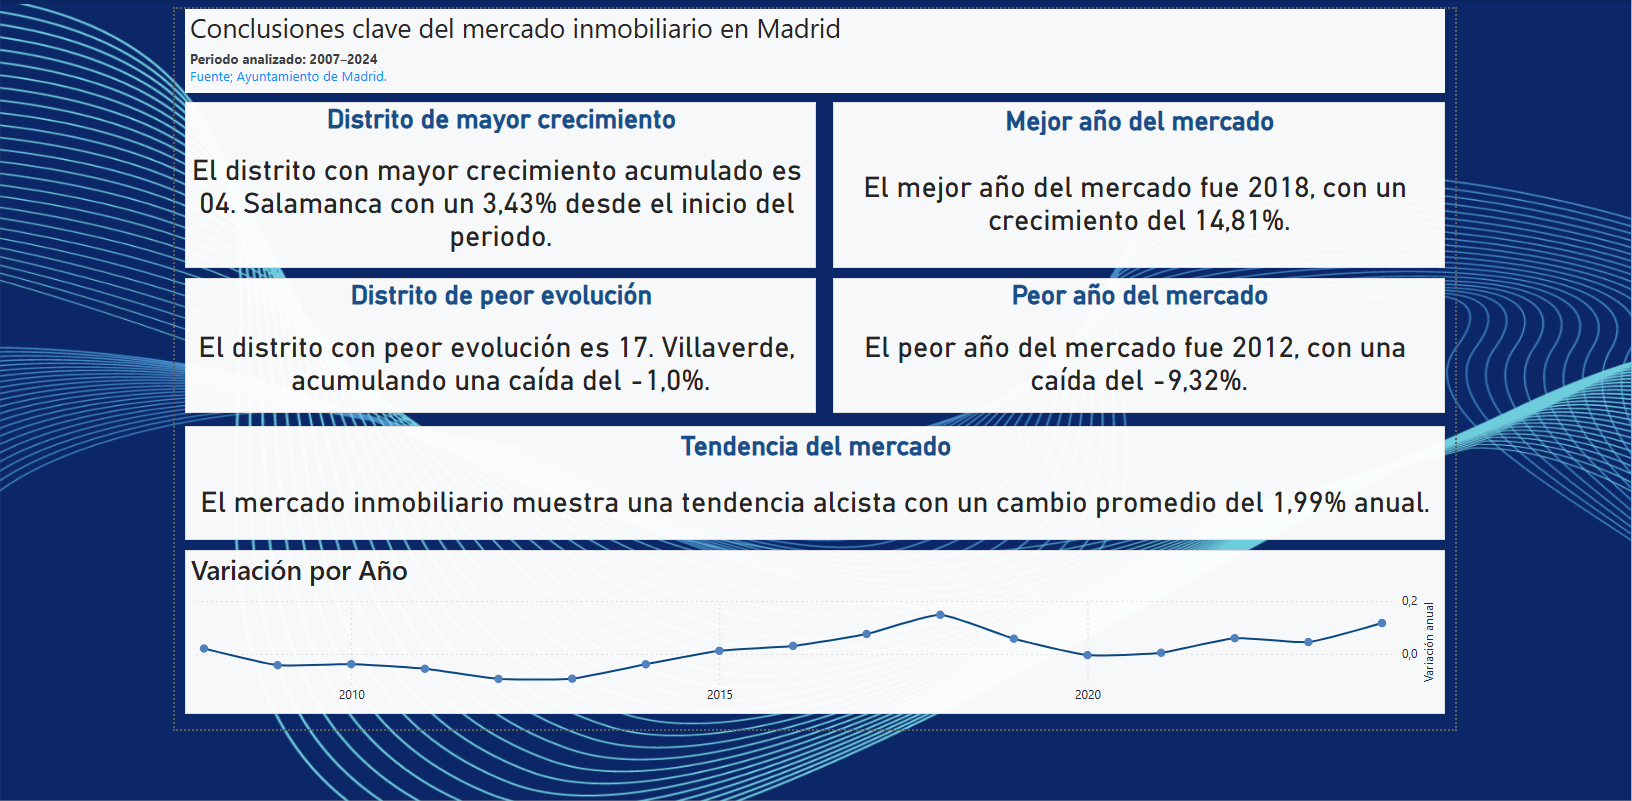

The page's visual inventory and layout, read from the dashboard file:
{"tool":"powerbi","page":{"name":"Conclusiones","canvas":[1280,720],"ordinal":2},"visuals":[{"type":"textbox","title":"Conclusiones clave del mercado inmobiliario en Madrid","box":[10,0,1260,83.8],"z":0},{"type":"card","title":"Distrito de mayor crecimiento","fields":{"Values":["Insights.Insight_DistritoMayorCrecimiento"]},"box":[10,92.5,631.2,166.2],"z":1000},{"type":"card","title":"Peor año del mercado","fields":{"Values":["Insights.Insight_PeorAño"]},"box":[657.5,268.8,612.5,135],"z":2000},{"type":"card","title":"Tendencia del mercado","fields":{"Values":["Insights.Insight_Tendencia"]},"box":[10,417.5,1270,113.8],"z":3000},{"type":"card","title":"Mejor año del mercado","fields":{"Values":["Insights.Insight_MejorAño"]},"box":[657.5,92.5,612.5,166.2],"z":4000},{"type":"card","title":"Distrito de peor evolución","fields":{"Values":["Insights.Insight_DistritoPeorEvolucion"]},"box":[10,268.8,631.2,135],"z":5000},{"type":"lineChart","title":"Variación por Año","fields":{"Category":["DimFecha.Año"],"Y":["FactPrecios.Variación YoY"]},"box":[10,541.2,1260,163.8],"z":6000}]}

Visuals, with their boxes on the page's 1280x720 design canvas (x1, y1, x2, y2). These are canvas units, not pixel positions in the 1632x801 screenshot, which may show the page scaled, cropped or inside an application window:
"Conclusiones clave del mercado inmobiliario en Madrid" textbox: (left=10, top=0, right=1270, bottom=84)
"Distrito de mayor crecimiento" card: (left=10, top=92, right=641, bottom=259)
"Peor año del mercado" card: (left=658, top=269, right=1270, bottom=404)
"Tendencia del mercado" card: (left=10, top=418, right=1280, bottom=531)
"Mejor año del mercado" card: (left=658, top=92, right=1270, bottom=259)
"Distrito de peor evolución" card: (left=10, top=269, right=641, bottom=404)
"Variación por Año" lineChart: (left=10, top=541, right=1270, bottom=705)
